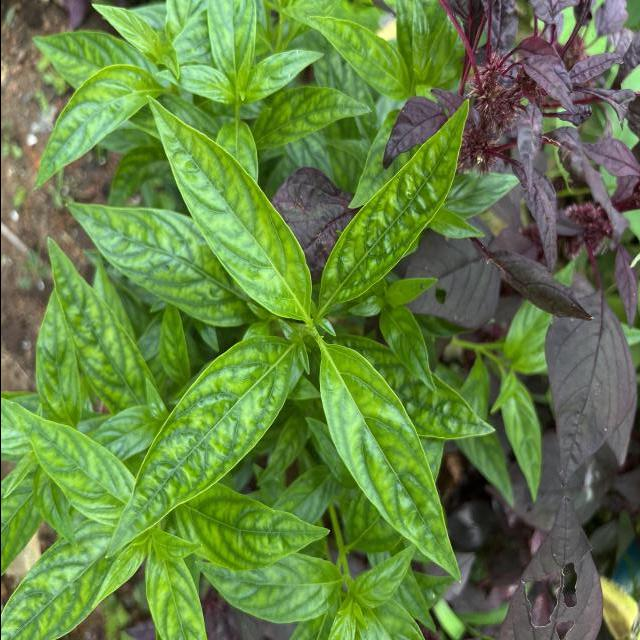Andrographis paniculata: (102, 333, 297, 564), (142, 90, 314, 324), (317, 339, 463, 586), (314, 93, 470, 320), (62, 200, 254, 328), (38, 232, 167, 414), (0, 400, 138, 528), (31, 62, 160, 190), (0, 521, 127, 640), (177, 480, 331, 572), (254, 84, 374, 152), (28, 29, 146, 90)
